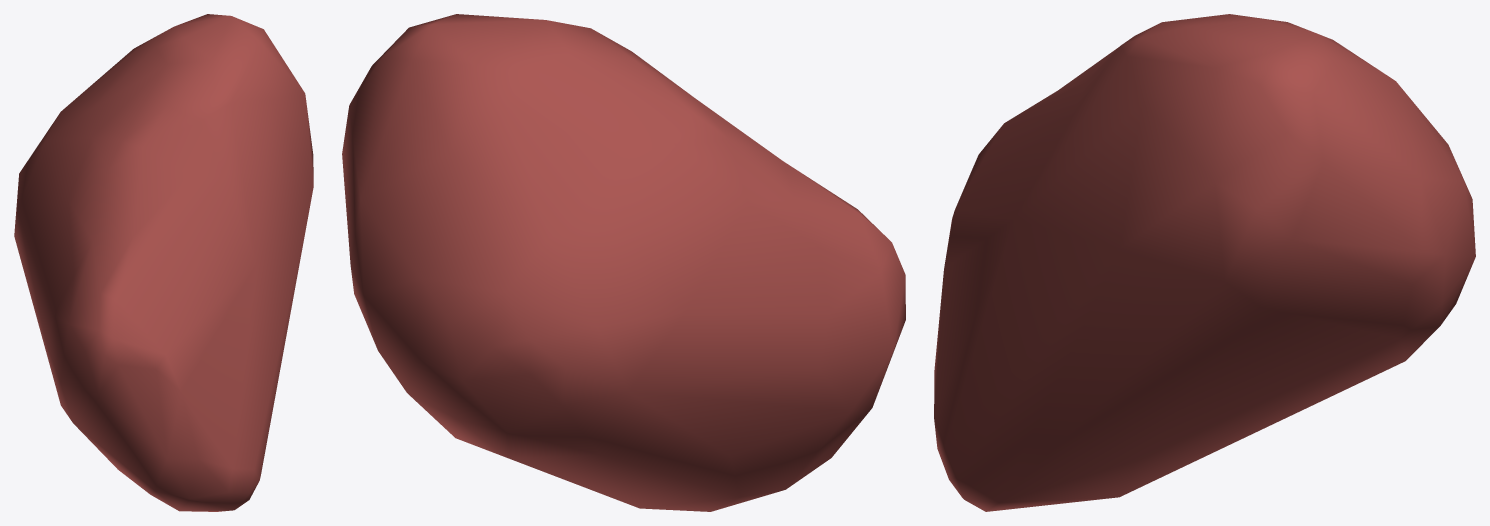
The model's file is FMA73309.glb.
3 views of the same model, side by side, from view 1: azimuth 30°, elevation 25°; view 2: azimuth 150°, elevation 25°; view 3: azimuth 270°, elevation 25° (orthographic). The views are drawn at different scales.
Parts seen in each view (by area): view 1: FMA73309; view 2: FMA73309; view 3: FMA73309.
Part boxes in pixels (x1=…): FMA73309: x1=14, y1=14, x2=313, y2=511; FMA73309: x1=342, y1=14, x2=905, y2=511; FMA73309: x1=934, y1=14, x2=1475, y2=511.
Size of the model in its own units: 0.00628 by 0.0073 by 0.00674.
